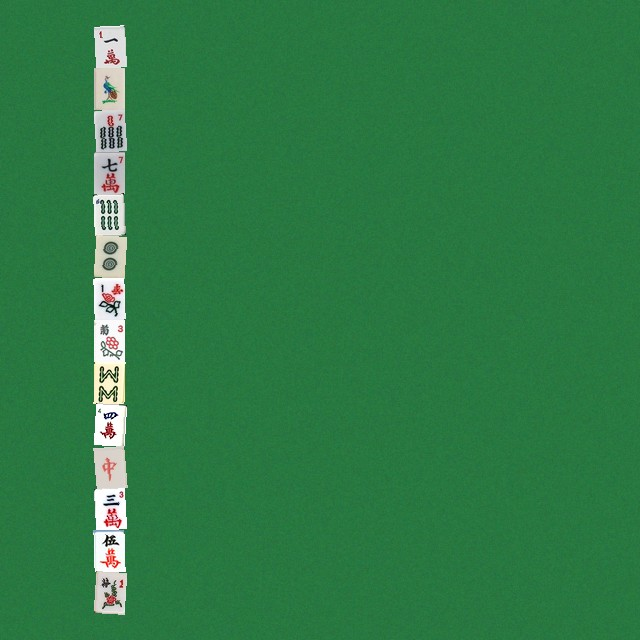tile: (93, 25, 124, 67), (93, 67, 124, 109), (93, 109, 124, 151), (93, 151, 124, 193), (93, 193, 124, 235), (93, 235, 124, 277), (93, 277, 124, 319), (93, 319, 124, 361), (93, 361, 124, 403), (93, 403, 124, 445), (93, 445, 124, 487), (93, 487, 124, 529), (93, 529, 124, 571), (93, 571, 124, 613)
